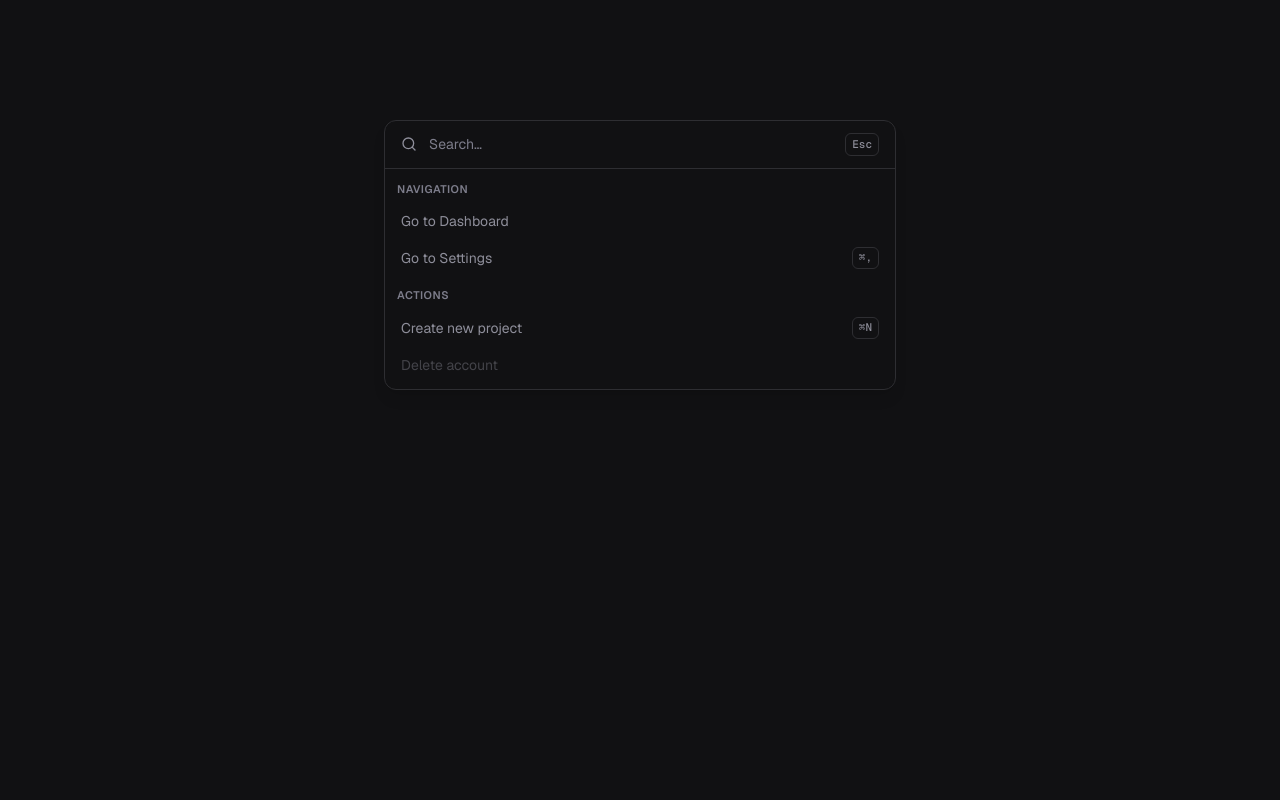
CommandPalette › shows empty state when no items match
In the dropdown: [631, 144] box top-left (429, 134), bottom-right (833, 154), type "zzznomatch"
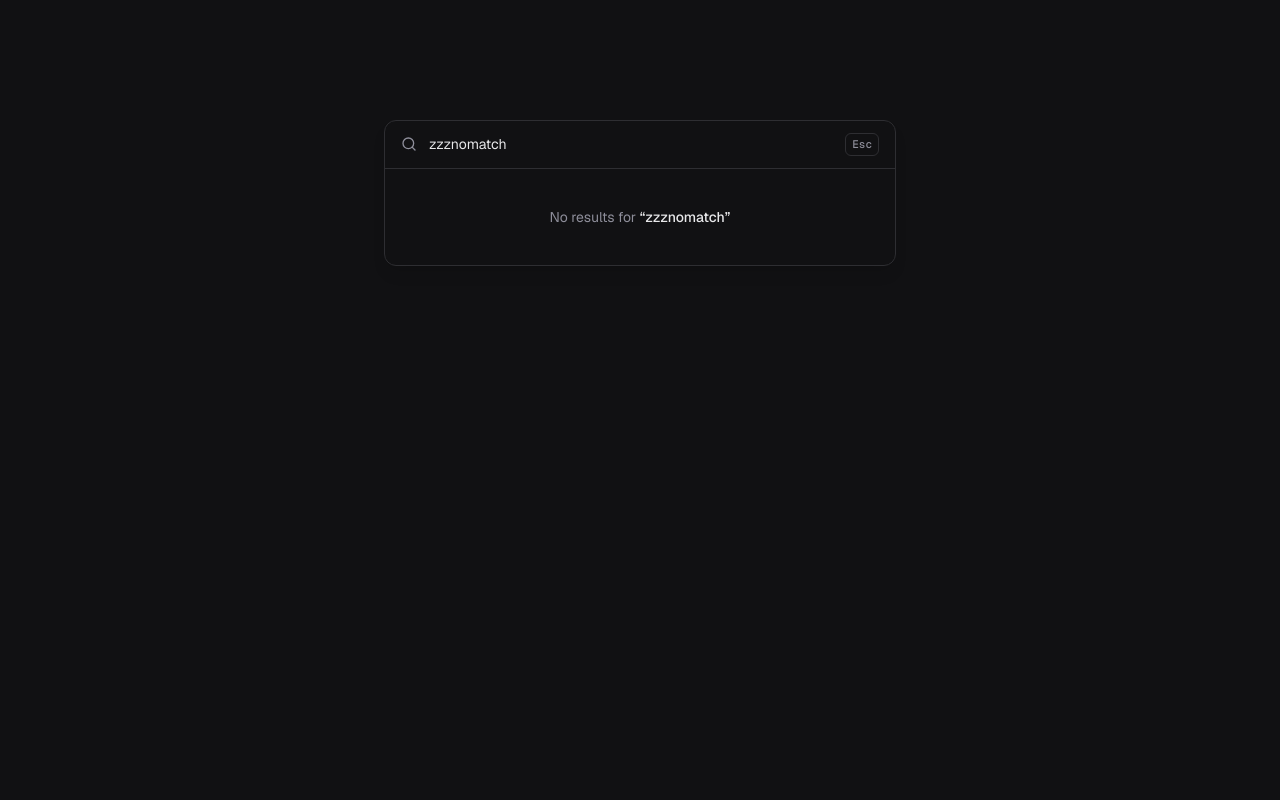
Expected: the text "No results for “zzznomatch”" is shown, top-left (550, 208), bottom-right (730, 226)
